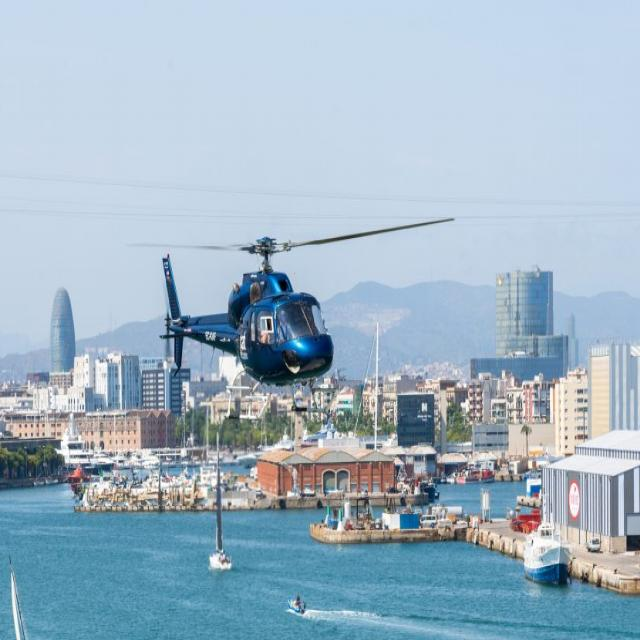helicopter: (135, 218, 458, 415)
